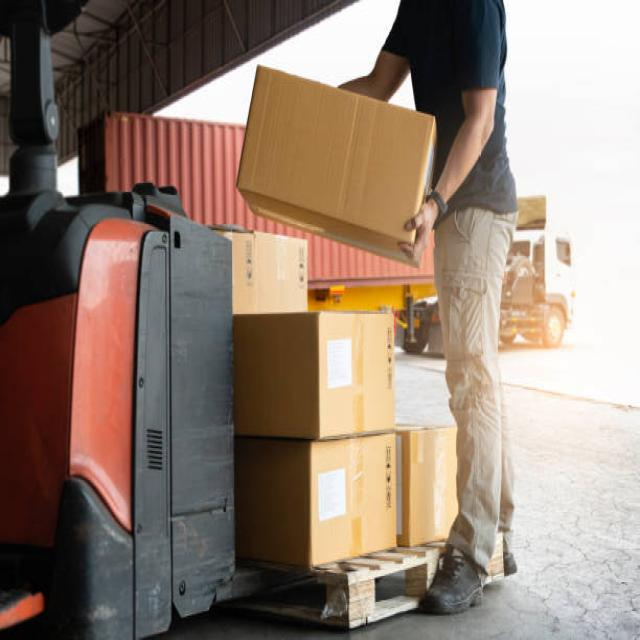Wooden-Pallets: (239, 542, 432, 626)
